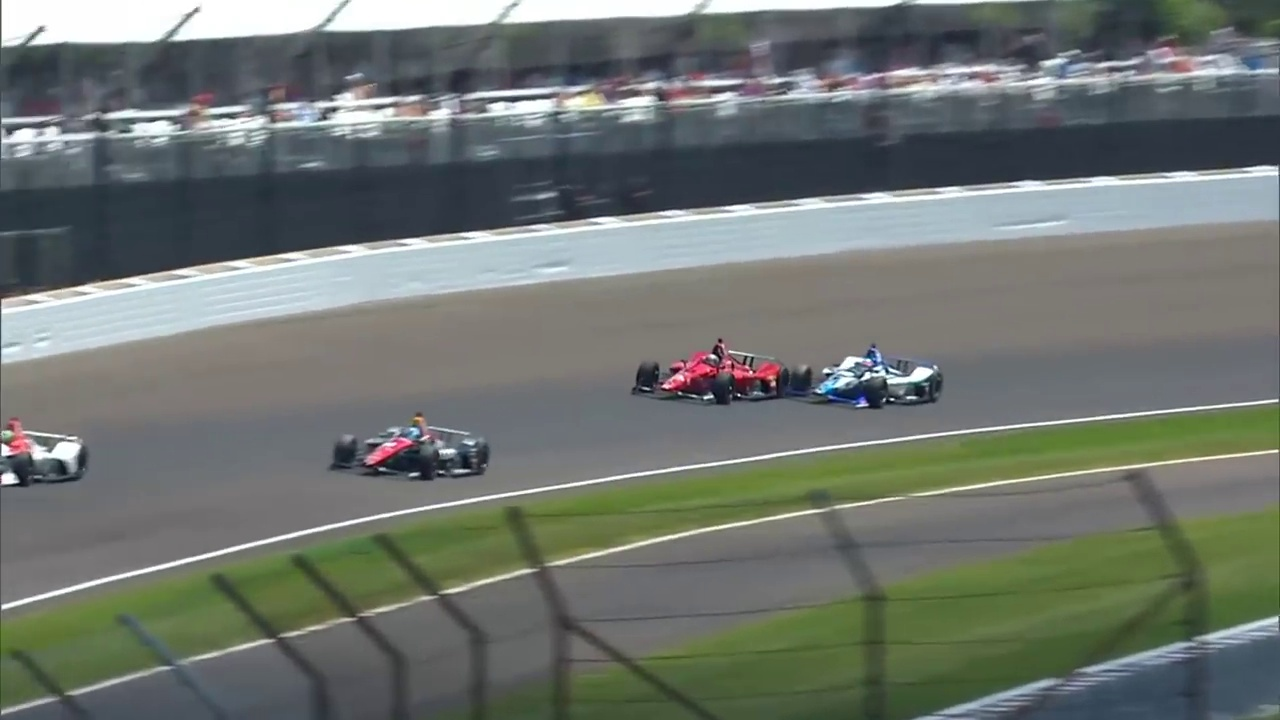car: (316, 403, 506, 487), (809, 331, 956, 422), (621, 336, 813, 403), (1, 408, 93, 493)
